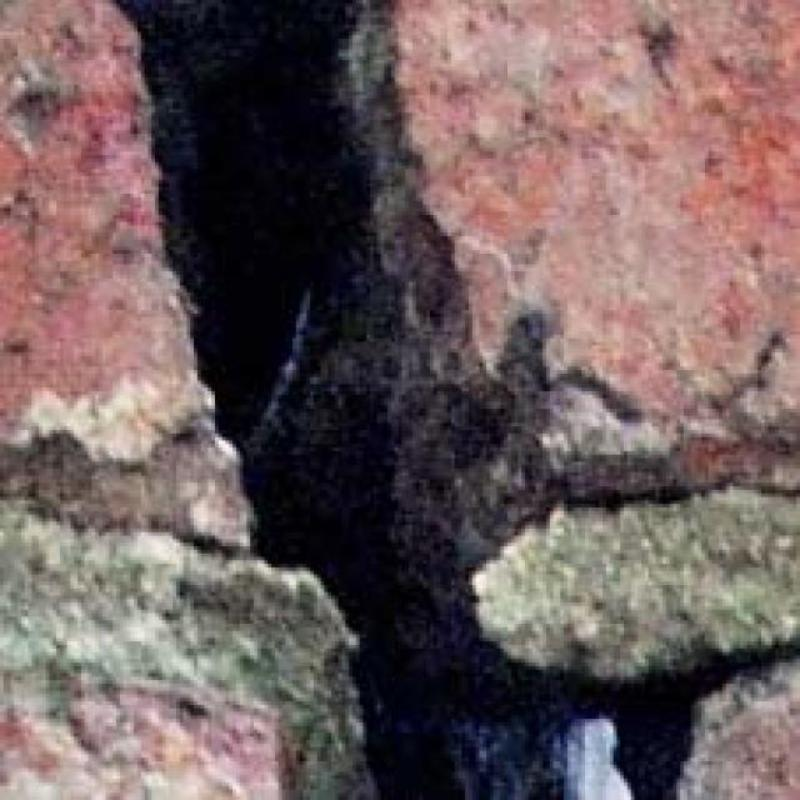pothole: (123, 0, 777, 800)
